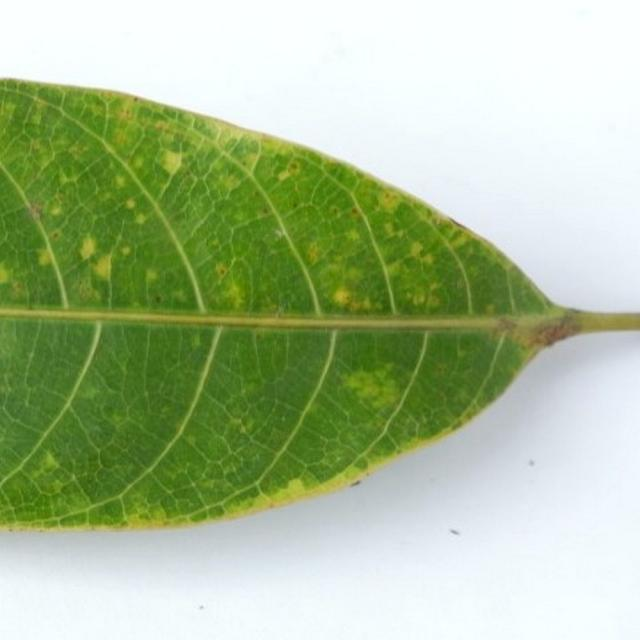Mango: (0, 79, 639, 527)
Powdery_Mildew: (346, 368, 395, 404), (530, 315, 577, 348), (72, 231, 101, 269), (218, 276, 247, 307), (74, 274, 100, 303), (281, 477, 308, 498), (490, 318, 516, 339), (160, 151, 183, 174), (58, 165, 80, 187), (331, 286, 352, 306), (40, 450, 60, 471), (380, 190, 399, 209), (27, 201, 44, 221), (37, 247, 53, 267), (306, 244, 322, 263), (0, 262, 12, 286), (234, 417, 252, 433), (409, 242, 425, 258), (145, 268, 159, 283), (345, 229, 361, 242), (49, 203, 62, 217), (215, 263, 228, 277), (412, 292, 426, 305), (277, 169, 292, 181), (134, 213, 147, 225), (114, 175, 126, 188), (485, 303, 496, 315), (125, 198, 136, 209), (120, 108, 131, 119), (329, 206, 341, 216), (120, 246, 131, 256), (258, 207, 269, 217), (274, 228, 284, 239), (51, 231, 60, 240), (351, 208, 359, 216)
